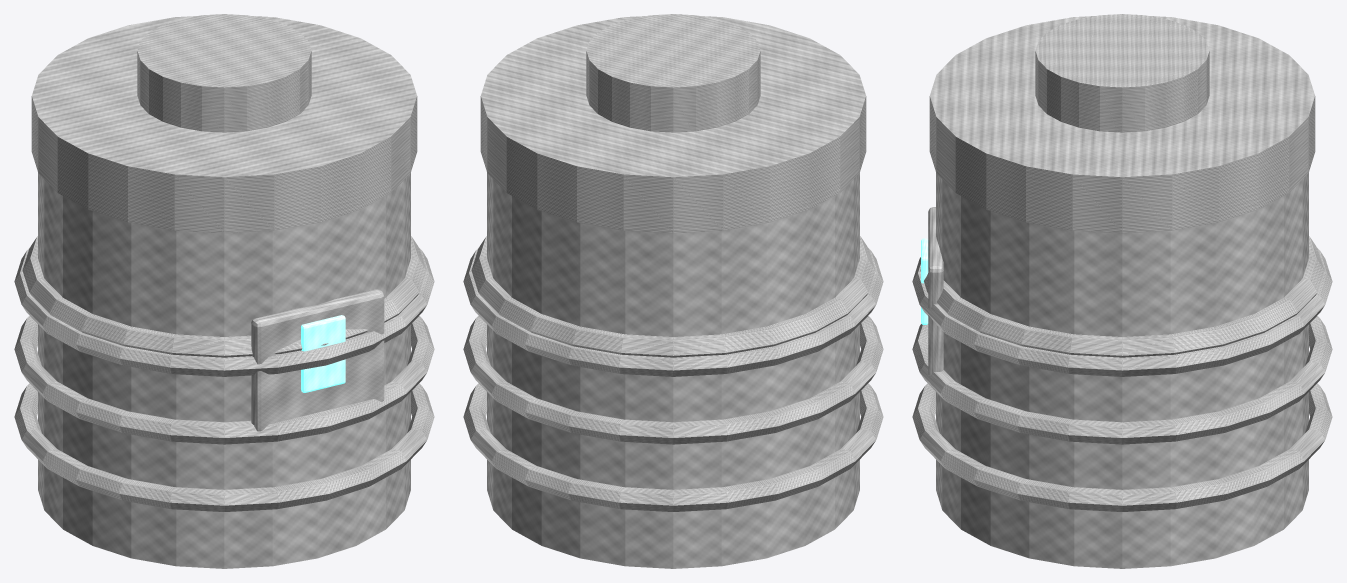
The model's file is item-packaged-rocket-fuel_variant_c.glb.
The picture shows the model from 3 angles, left to right: view 1: azimuth 30°, elevation 25°; view 2: azimuth 150°, elevation 25°; view 3: azimuth 270°, elevation 25°; orthographic projection.
Parts seen in each view (by area): view 1: Container shell.003, Container top.003, Container cap.003, Variant collar, Variant collar.001, Fluid label.002, Variant collar.002, Container seam.003, Fill window.002; view 2: Container shell.003, Container top.003, Container cap.003, Variant collar.001, Variant collar, Container seam.003, Variant collar.002; view 3: Container shell.003, Container top.003, Container cap.003, Variant collar, Variant collar.001, Container seam.003, Variant collar.002, Fluid label.002.
Part boxes in pixels (box(x1,y1,x2,y2)): Container shell.003: box(38, 173, 410, 568); Container top.003: box(31, 16, 417, 233); Container cap.003: box(137, 14, 311, 132); Variant collar: box(14, 383, 434, 511); Variant collar.001: box(14, 315, 434, 444); Fluid label.002: box(251, 289, 384, 431); Variant collar.002: box(14, 248, 434, 376); Container seam.003: box(22, 236, 426, 357); Fill window.002: box(301, 315, 345, 392); Container shell.003: box(487, 173, 859, 568); Container top.003: box(480, 16, 866, 233); Container cap.003: box(586, 14, 760, 132); Variant collar.001: box(463, 315, 883, 444); Variant collar: box(463, 383, 883, 511); Container seam.003: box(471, 236, 875, 357); Variant collar.002: box(463, 248, 883, 376); Container shell.003: box(936, 173, 1308, 568); Container top.003: box(929, 16, 1315, 233); Container cap.003: box(1035, 14, 1209, 132); Variant collar: box(912, 383, 1332, 511); Variant collar.001: box(912, 315, 1332, 444); Container seam.003: box(920, 236, 1324, 357); Variant collar.002: box(912, 248, 1332, 376); Fluid label.002: box(928, 207, 943, 375).
Size of what is drawn, in the model's own units: 0.676 by 0.78 by 0.676.
6 materials, 6 textured.
